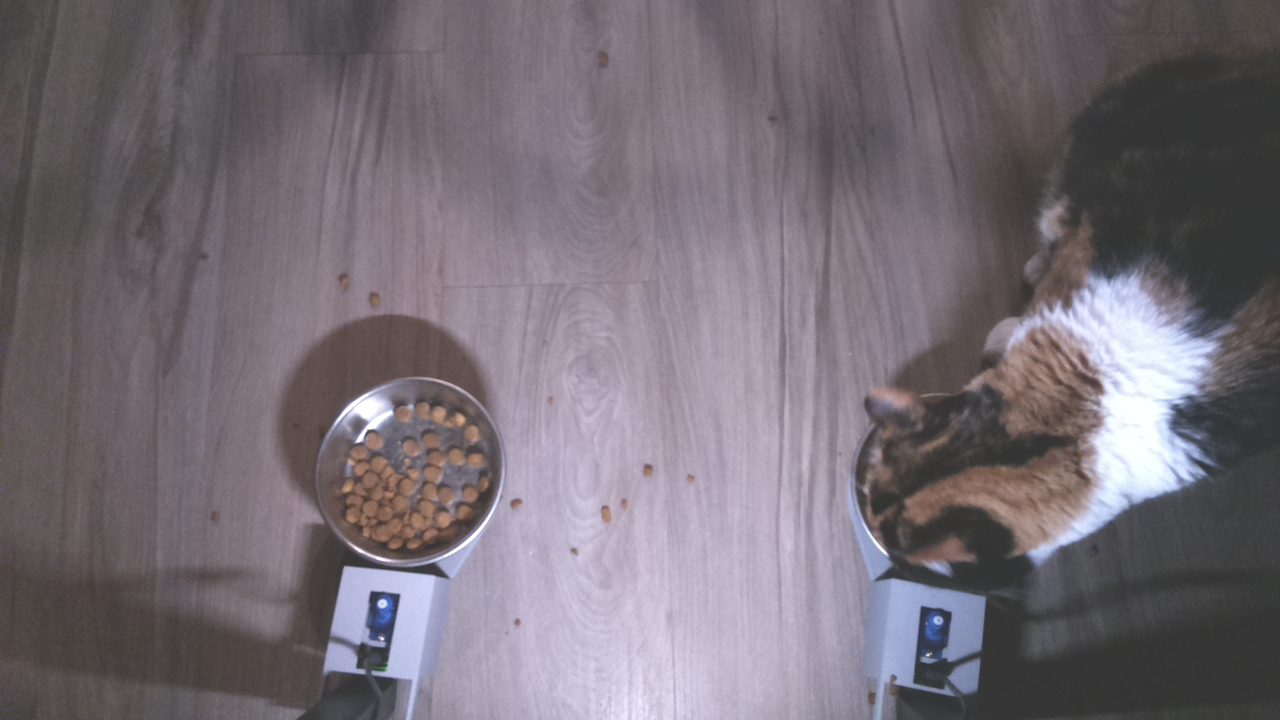bella_eating: (849, 346, 1155, 586)
open_bowl: (312, 373, 511, 570)
